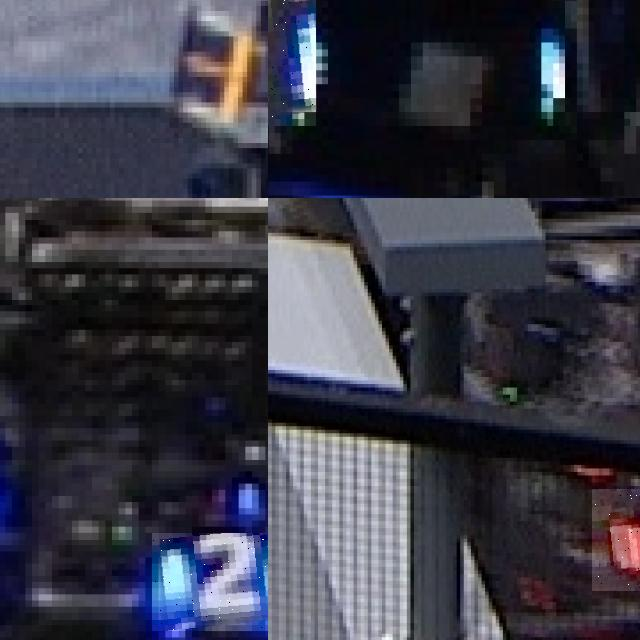B2: (152, 532, 268, 631)
R1: (268, 0, 316, 126)
R2: (592, 489, 640, 591)
